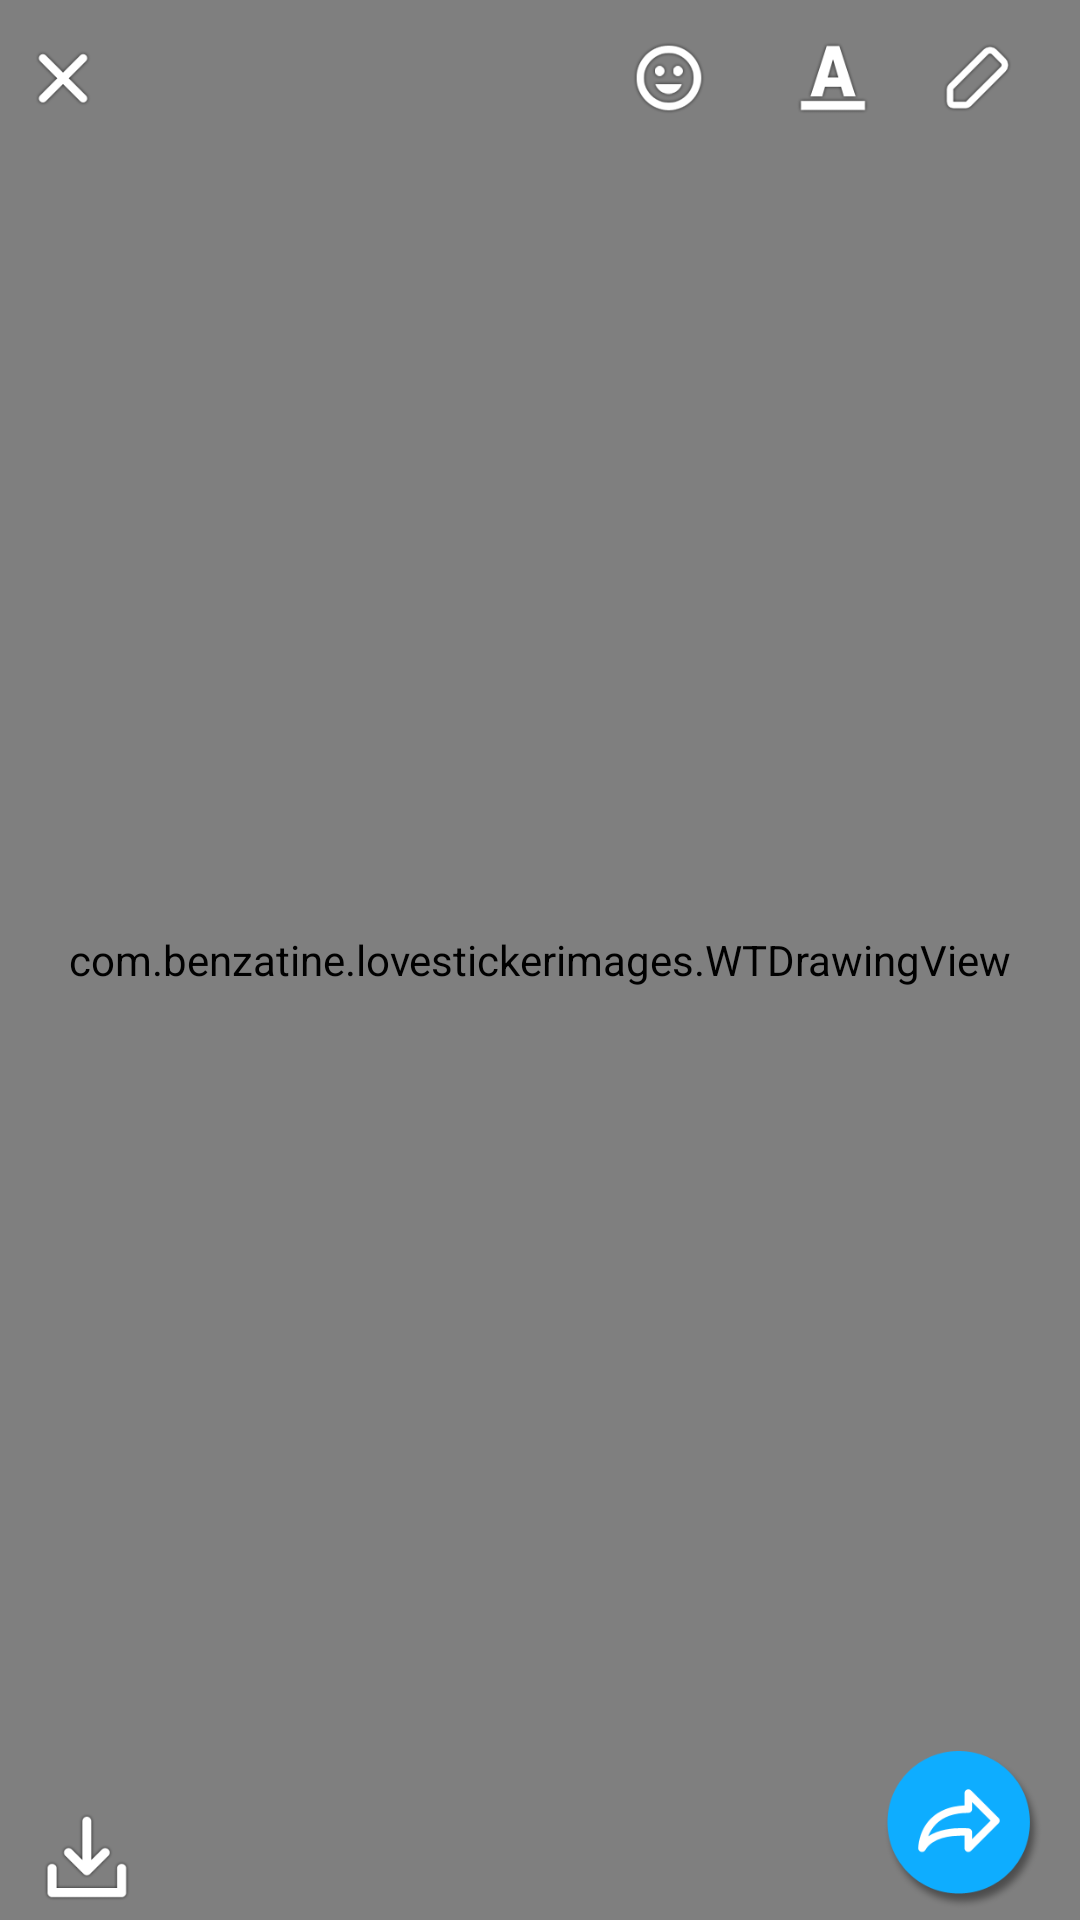

Icons on this 1080px x 1920px Android screen, each with the point to tap as (x,y):
cancel: (63,78)
download: (86,1857)
edit: (977,78)
share: (960,1826)
text: (833,78)
